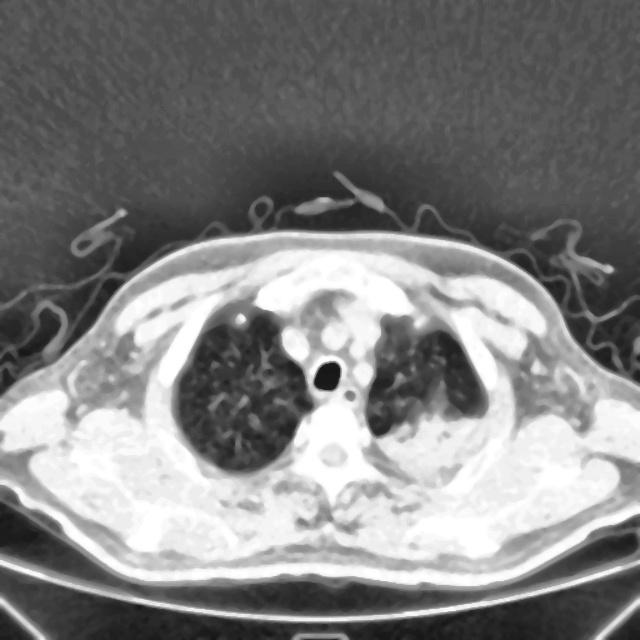covid: (0, 218, 639, 596)
